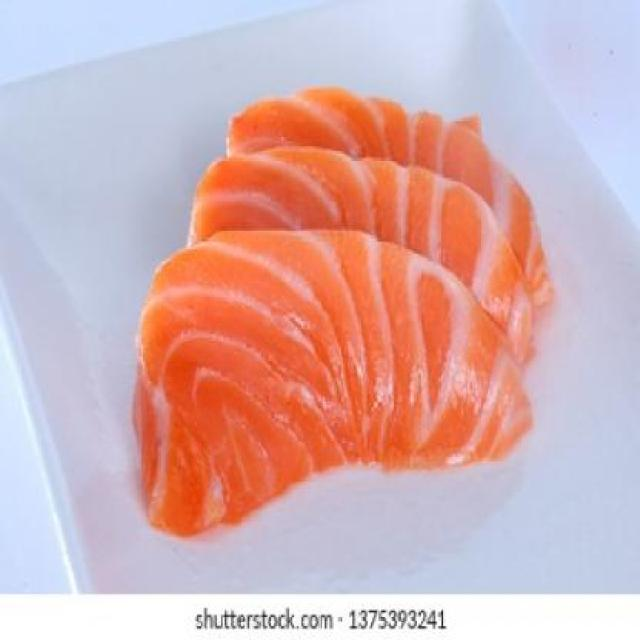salmon: (108, 220, 558, 540), (178, 132, 538, 377), (218, 84, 560, 308)
